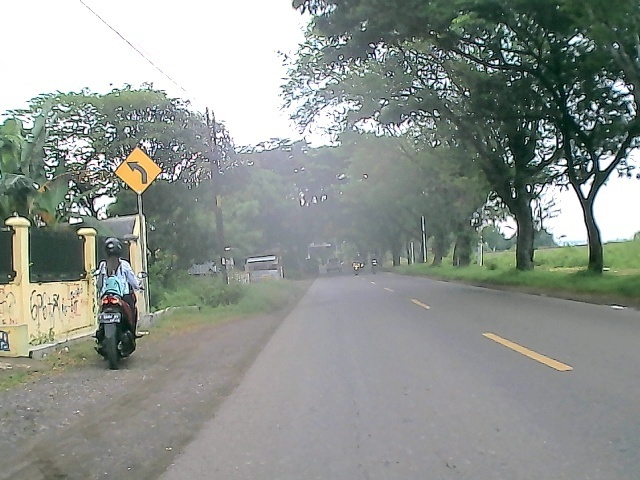Tikungan ke kiri: (113, 144, 166, 199)
